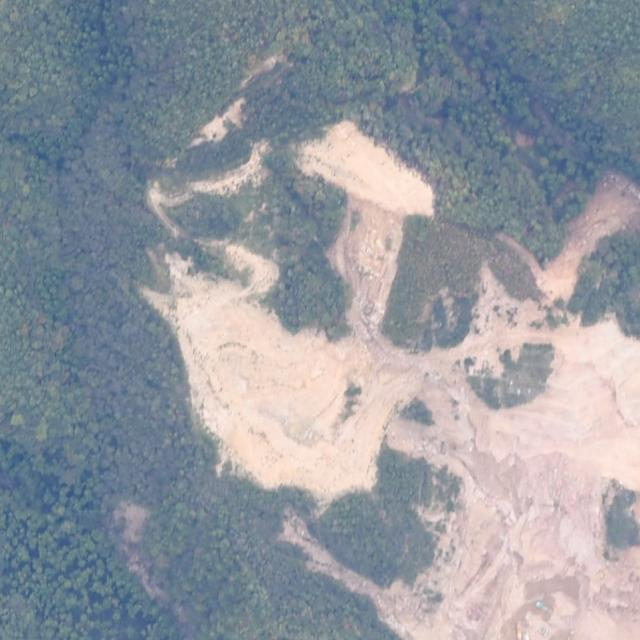landslide: (140, 121, 640, 640)
